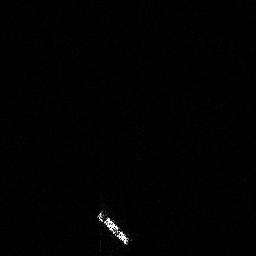ship: (97, 209, 133, 247)
